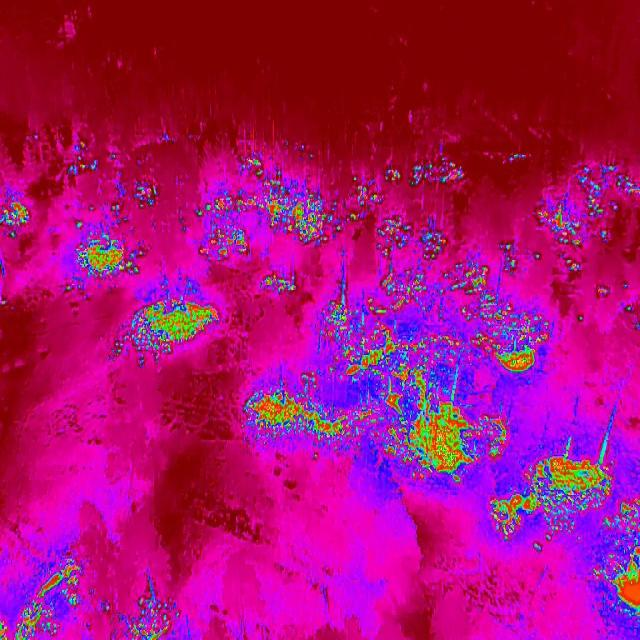fire: (192, 184, 384, 296), (429, 241, 552, 375), (375, 374, 509, 484), (490, 448, 620, 553), (530, 162, 640, 272), (322, 295, 430, 383), (243, 377, 376, 447), (112, 290, 220, 359), (374, 210, 452, 295), (0, 560, 80, 640), (591, 496, 640, 626), (70, 212, 146, 282), (380, 151, 474, 198), (239, 152, 308, 188), (126, 594, 176, 640), (110, 177, 167, 217), (60, 136, 96, 182), (0, 196, 30, 239)
